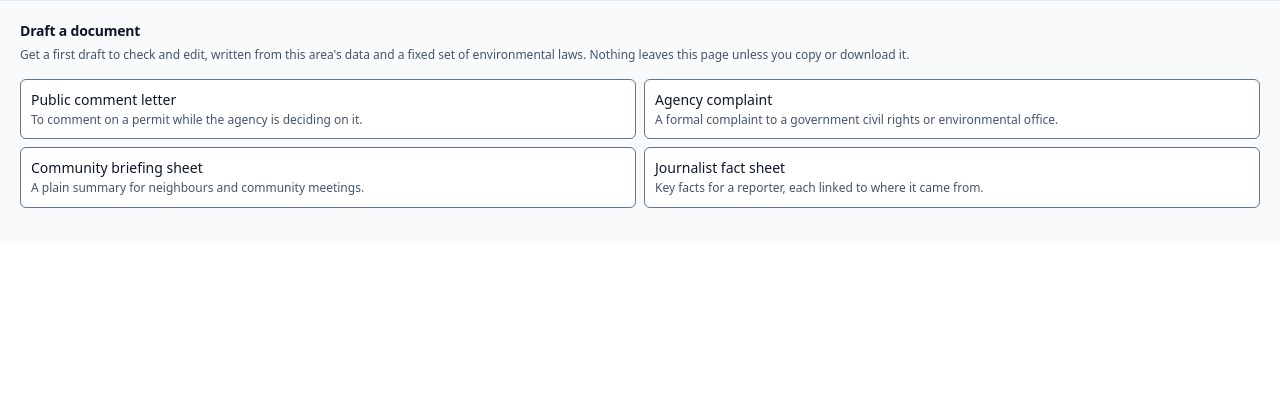
failures read as answers › shows the refusal the model gave, and says it is a refusal
Click the text "Public comment letter" at (104, 99), box [31,90,176,108]
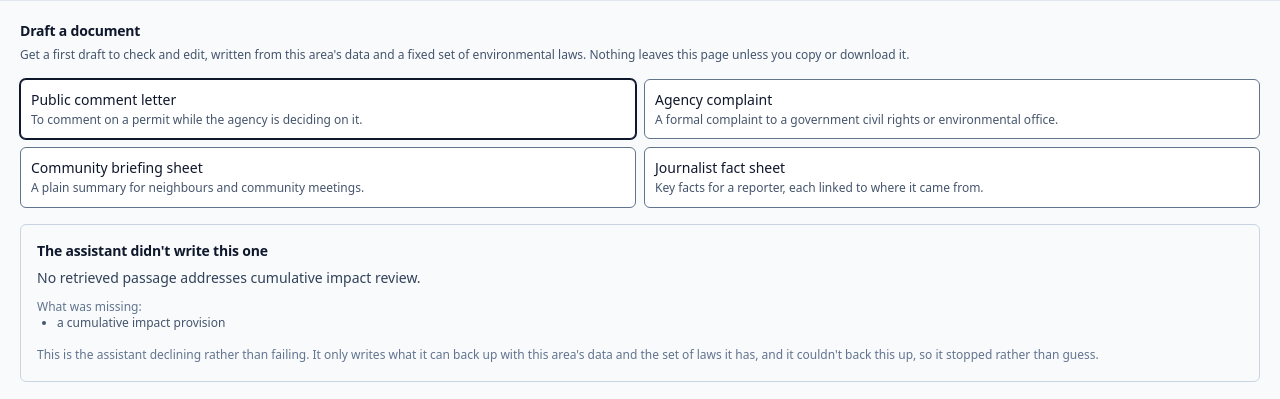
expect the text "No retrieved passage addresses cumulative impact review." is shown: met, box [37,268,421,286]
expect the text "declining rather than failing" is shown: met, box [37,346,1099,363]
expect the list item "a cumulative impact provision" is shown: met, box [57,314,225,331]
